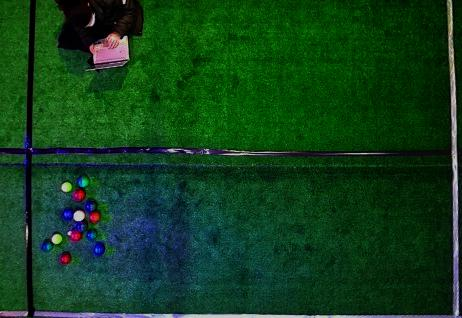blue: (94, 243, 105, 255), (62, 209, 73, 220)
green: (77, 175, 90, 188), (85, 200, 97, 211), (42, 241, 53, 252), (76, 222, 87, 233), (87, 229, 97, 240)
red: (74, 189, 86, 201), (89, 211, 101, 222), (73, 210, 85, 221), (60, 253, 71, 264), (71, 230, 82, 241)
vline: (1, 0, 37, 317), (443, 0, 461, 318)
white: (67, 231, 72, 236)
yellow: (51, 233, 62, 244), (61, 181, 72, 192)
